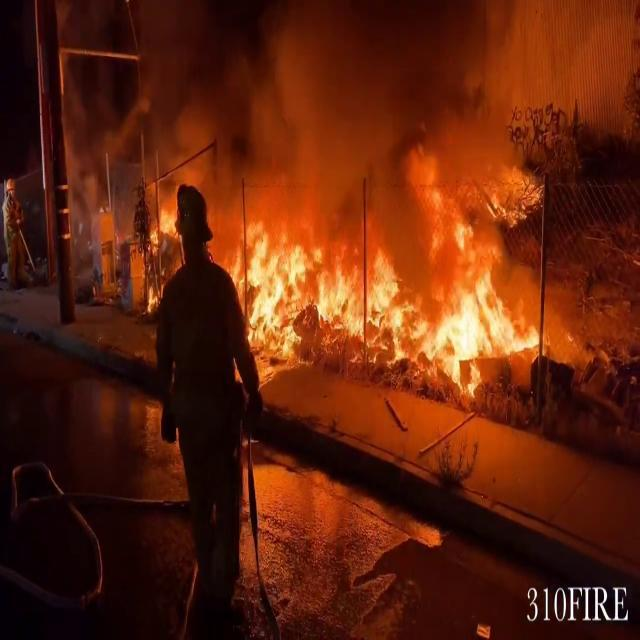Fire: (233, 152, 550, 390)
Smoke: (85, 1, 543, 192)
